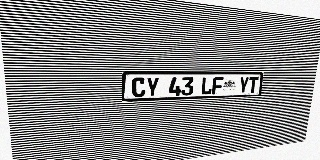plate: (122, 72, 264, 102)
